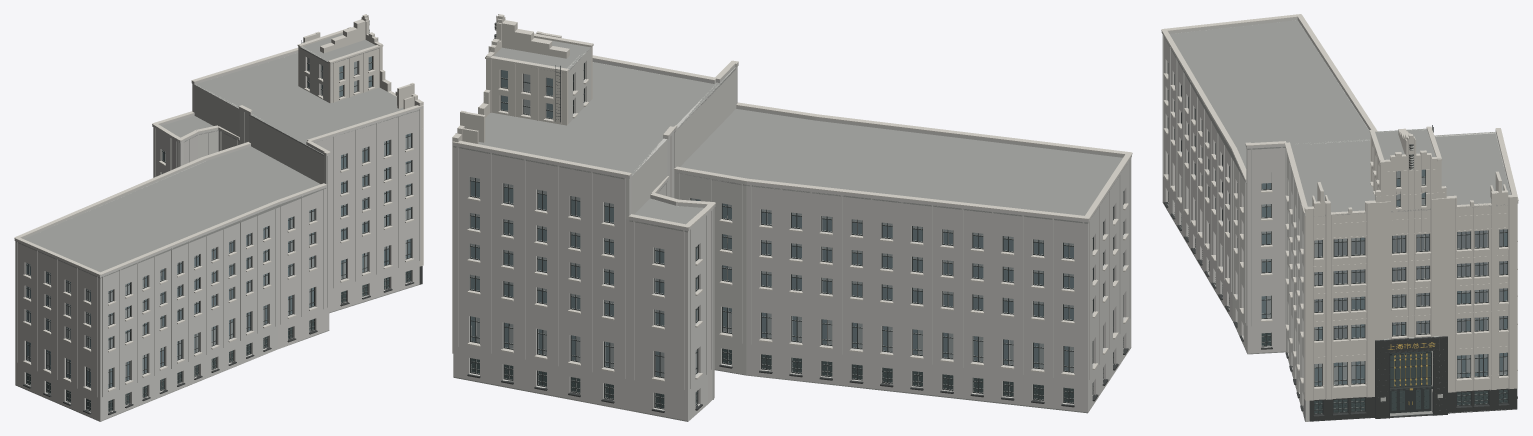
File: bund14.glb
The picture shows the model from 3 angles, left to right: view 1: azimuth 30°, elevation 25°; view 2: azimuth 150°, elevation 25°; view 3: azimuth 270°, elevation 25°; orthographic projection. The views are drawn at different scales.
Bounding box in the file's own units: 60.25 × 33.4 × 38.68.
